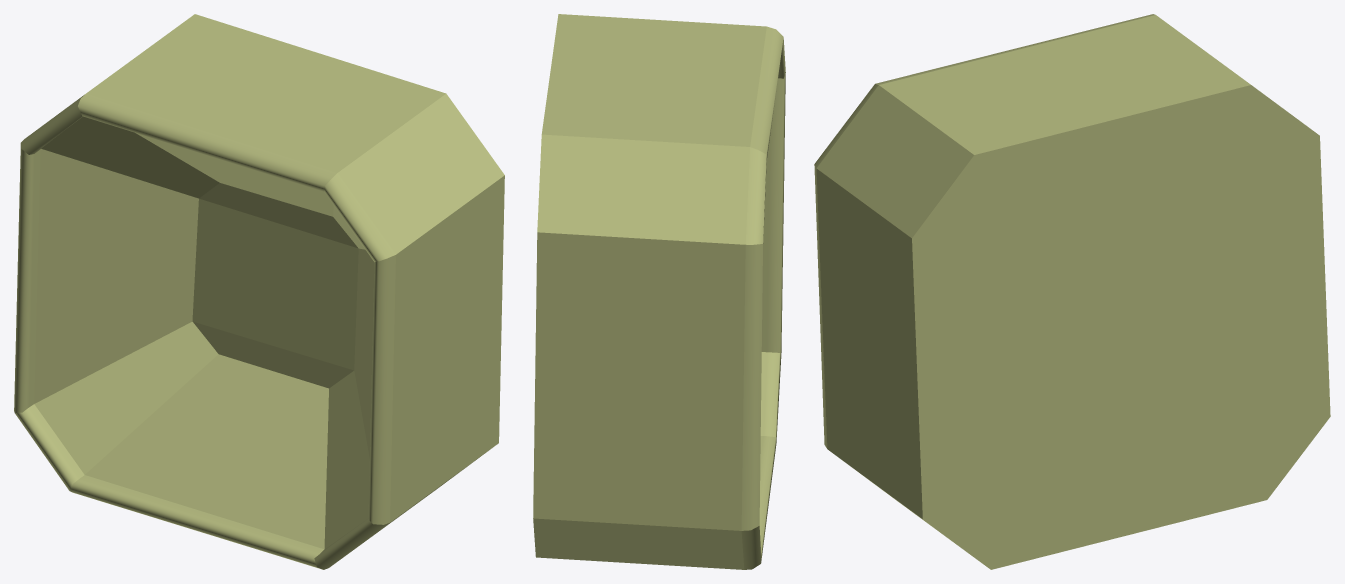
Rendered from BL4_8shapes_Square_Classic_Metal.001 2.glb.
3 views of the same model, side by side, from view 1: azimuth 30°, elevation 25°; view 2: azimuth 150°, elevation 25°; view 3: azimuth 270°, elevation 25° (orthographic). The views are drawn at different scales.
Visible parts, largest first — view 1: BL4_8shapes_Square_Classic_Metal.001; view 2: BL4_8shapes_Square_Classic_Metal.001; view 3: BL4_8shapes_Square_Classic_Metal.001.
Part boxes in pixels (x1=…): BL4_8shapes_Square_Classic_Metal.001: x1=14, y1=14, x2=504, y2=569; BL4_8shapes_Square_Classic_Metal.001: x1=533, y1=14, x2=785, y2=569; BL4_8shapes_Square_Classic_Metal.001: x1=814, y1=14, x2=1330, y2=569.
Size of the model in its own units: 0.4484 by 0.5264 by 0.5672.
